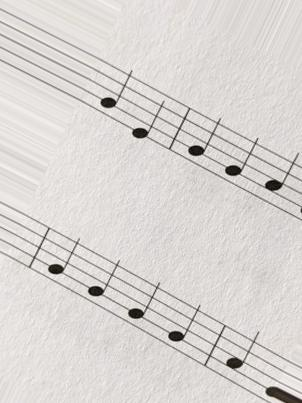note: (122, 266, 163, 341), (99, 59, 136, 139), (42, 229, 84, 299), (130, 78, 168, 154), (262, 147, 300, 222), (163, 289, 200, 363), (224, 326, 262, 398), (224, 127, 259, 201), (187, 109, 221, 180), (85, 249, 119, 320)
